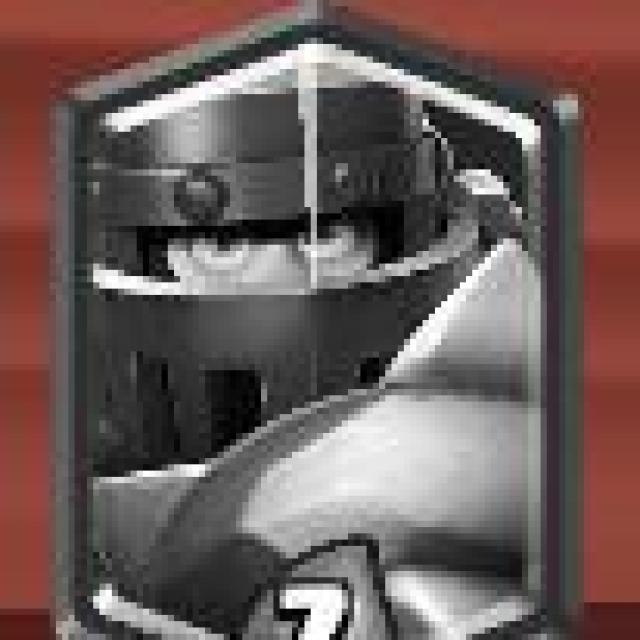Mega_Knight: (64, 5, 579, 640)
